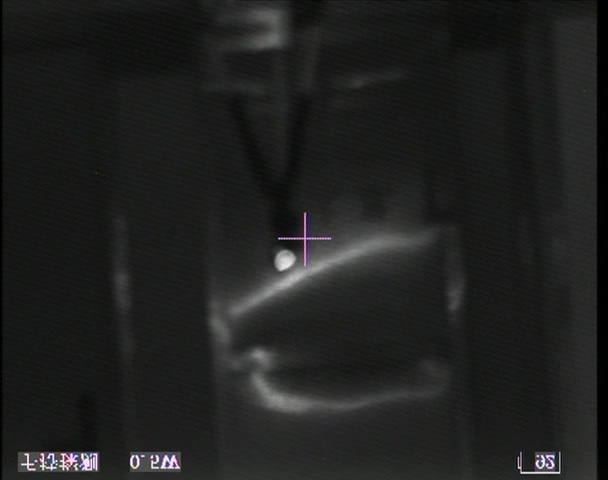my: (273, 247, 298, 273)
